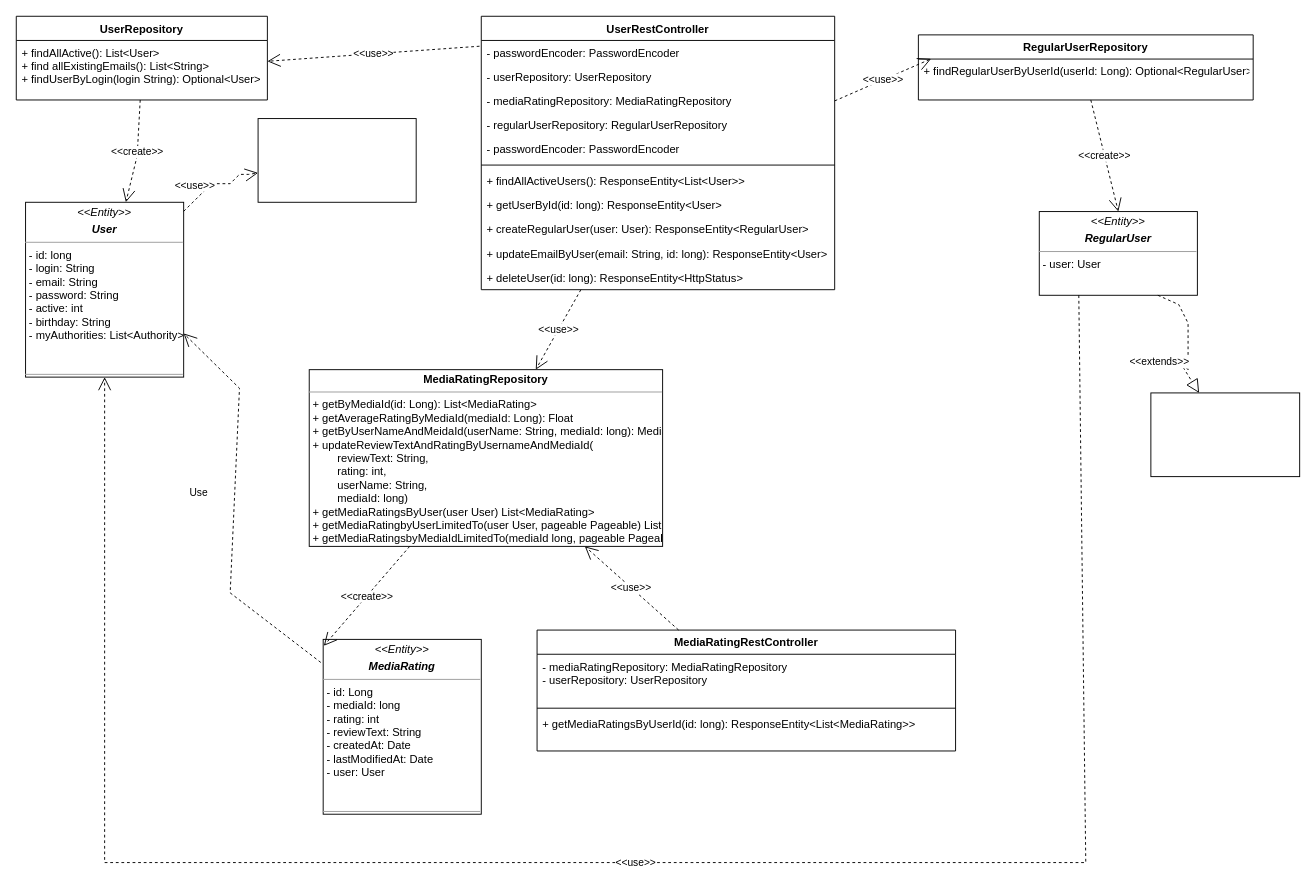
Image size: 1316x892. Some labels were removed from this diagram. The centre of each missing label's shape, as x and y in pixels:
"<<abstract>> AbstractRole - id: Long" goes at (1225,434).
"<<Entity>> Authority - id: Long - description: String" goes at (336,160).
